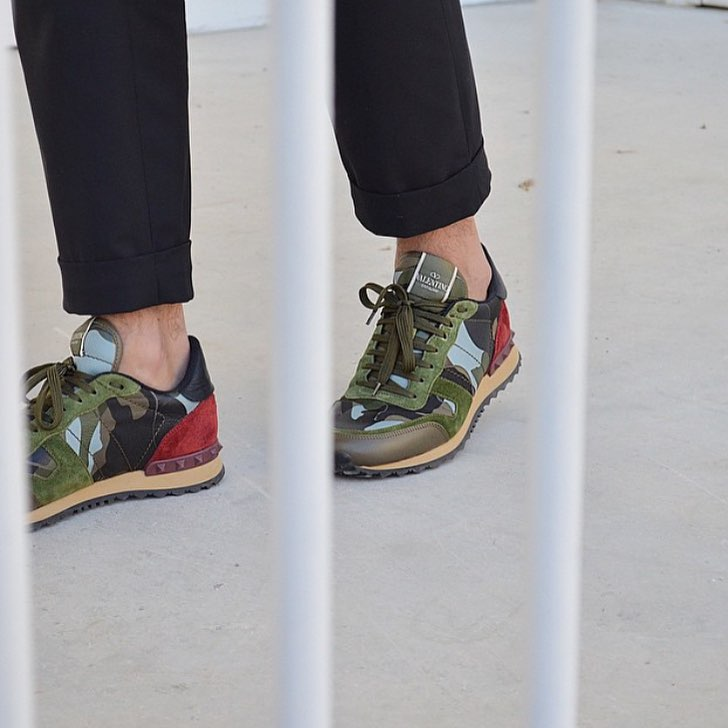sneaker: (313, 195, 534, 507), (1, 286, 244, 544)
